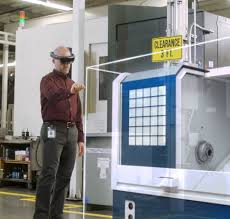hololens: (48, 51, 76, 66)
